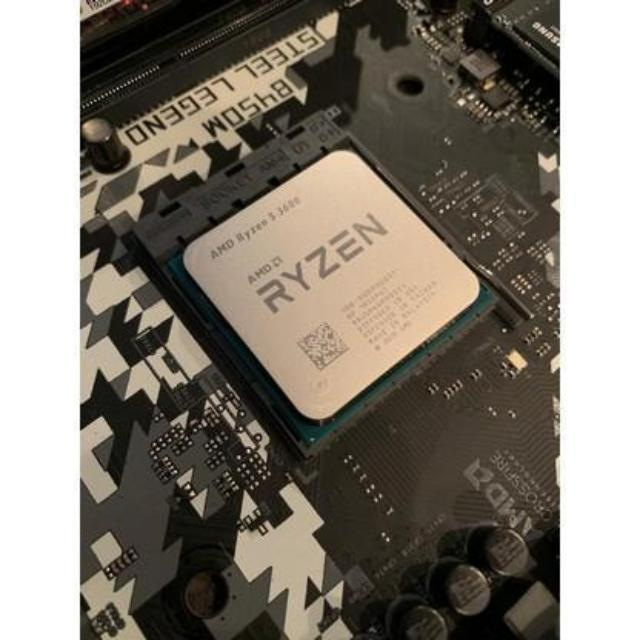CPU: (182, 146, 488, 418)
